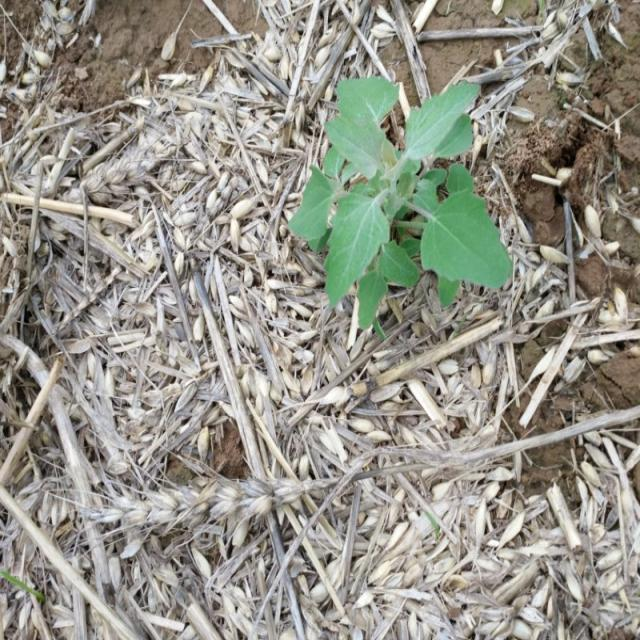goosefoots: (283, 72, 524, 316)
